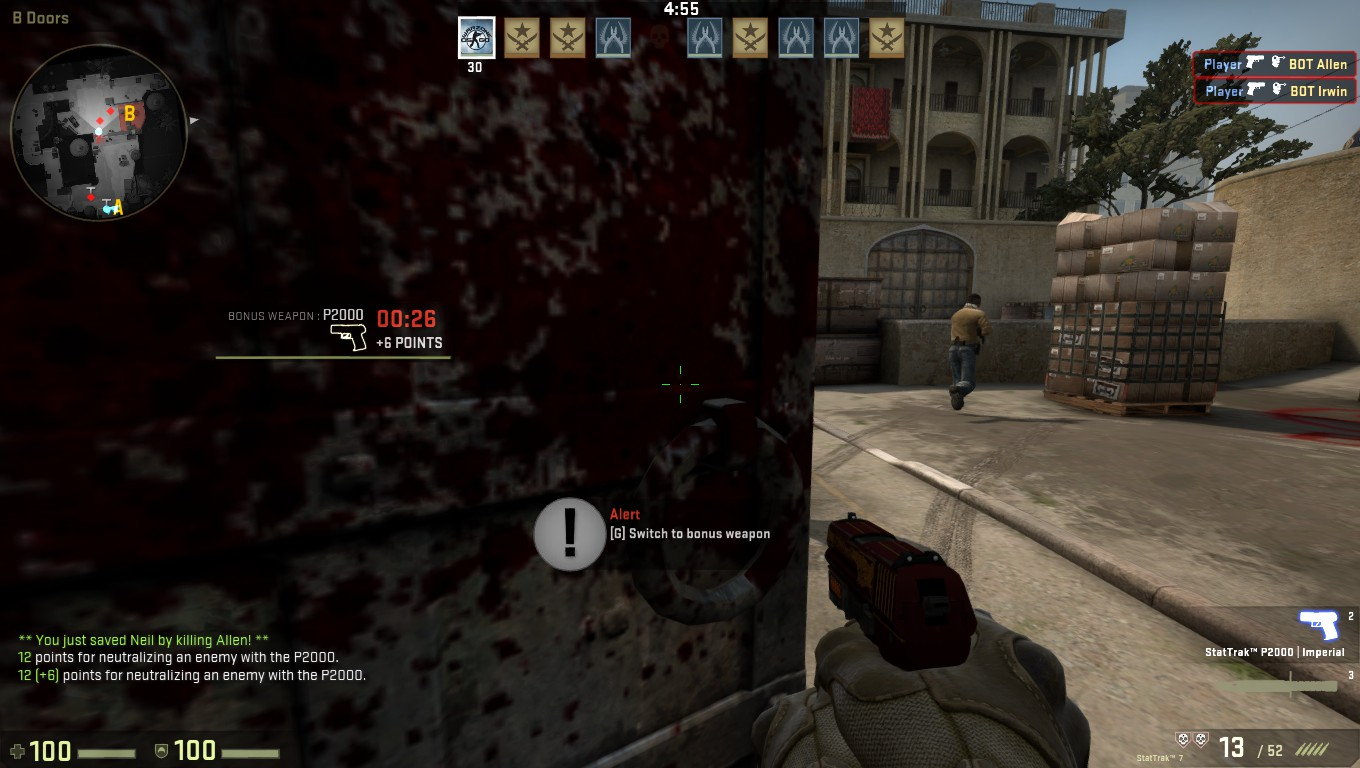t: (941, 291, 992, 410)
th: (966, 287, 983, 314)
